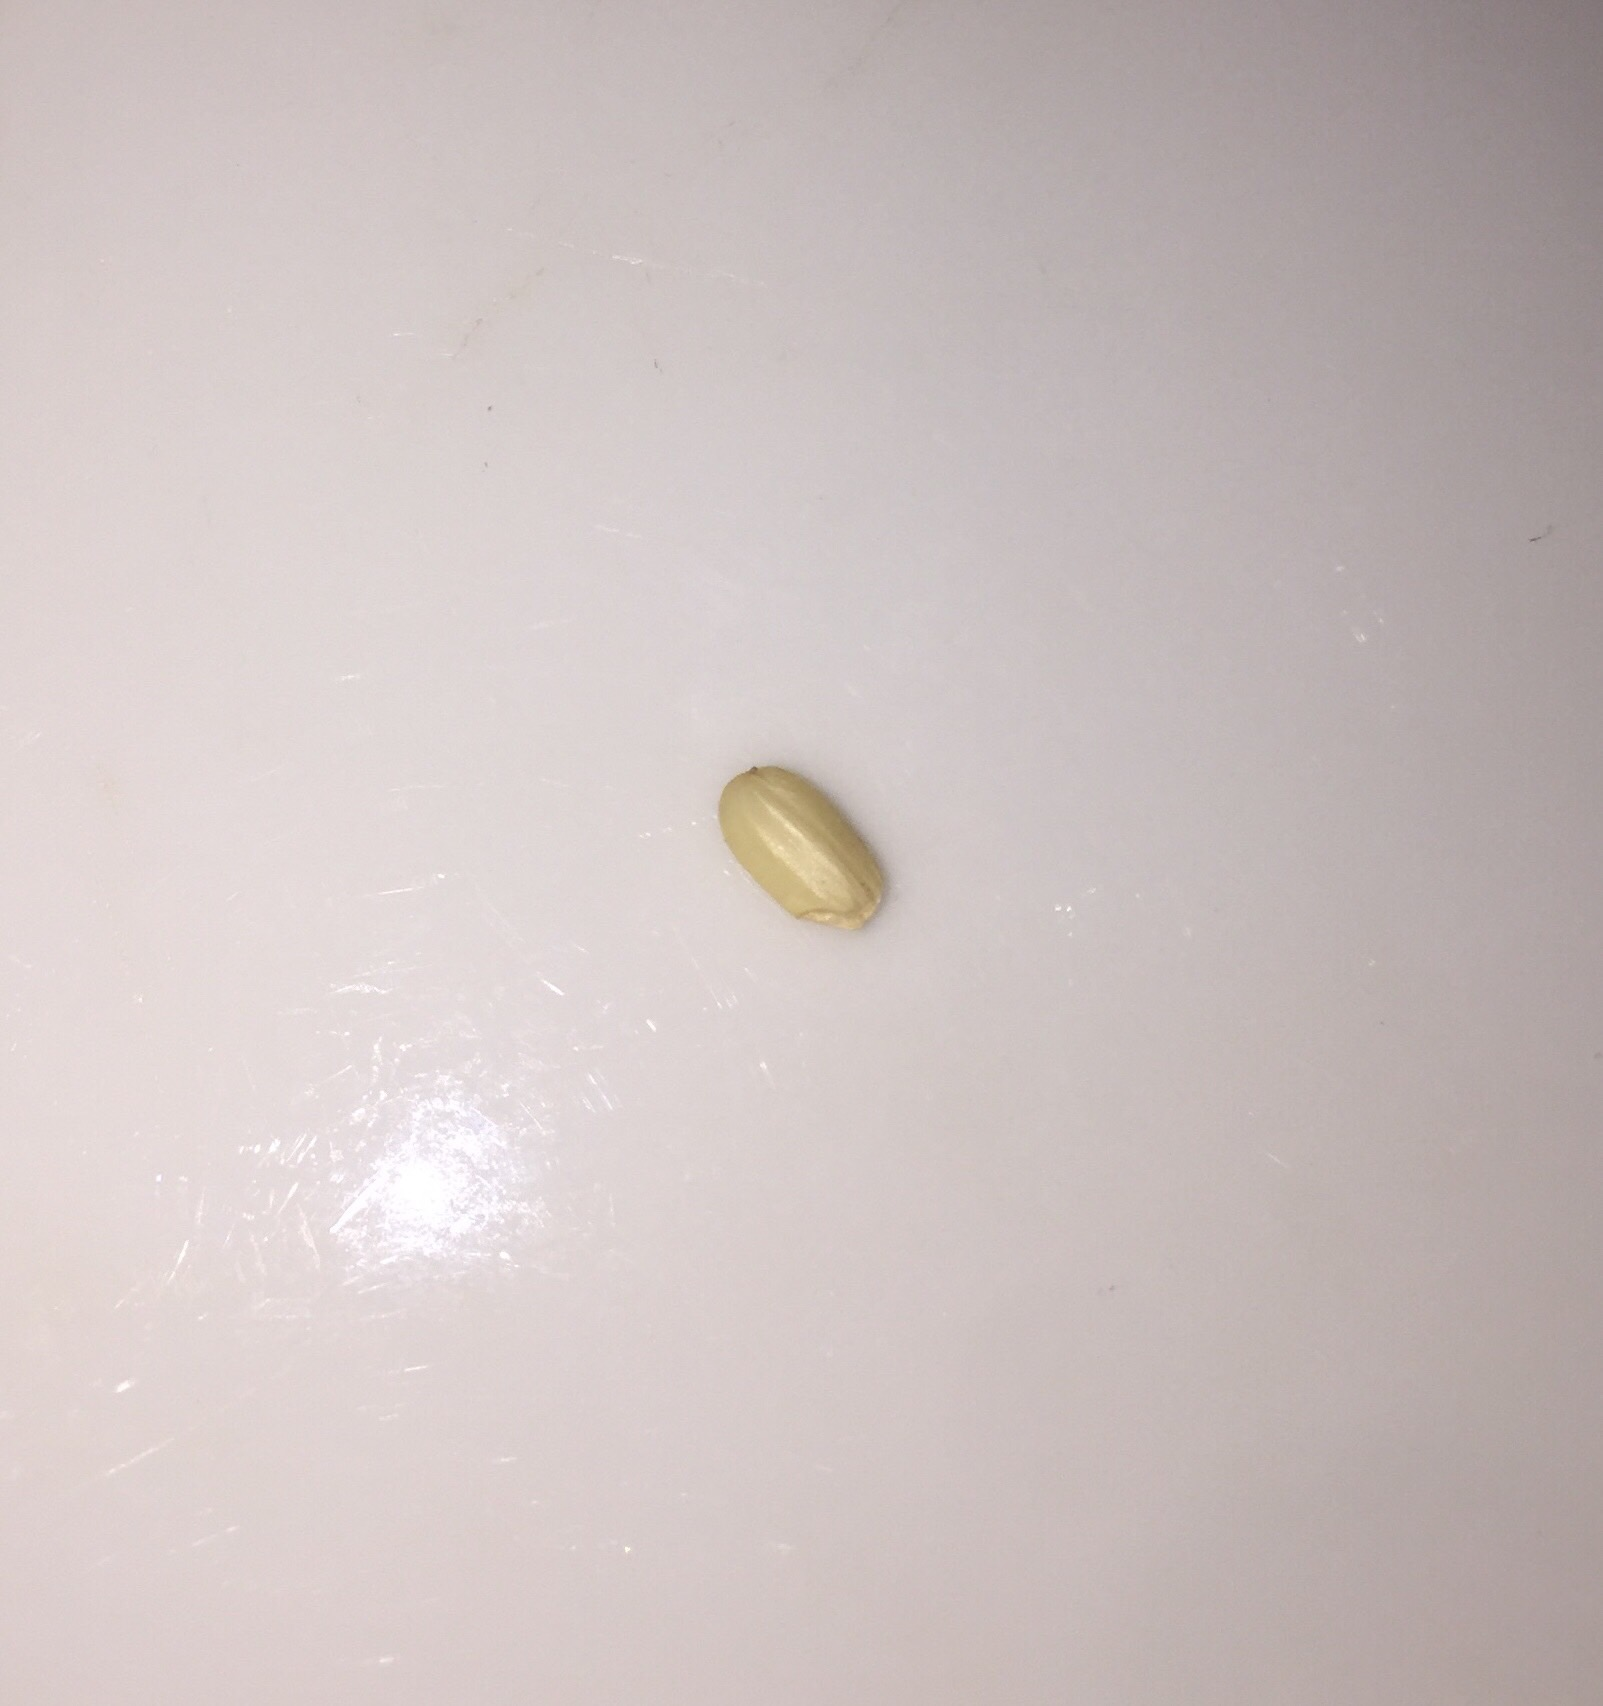Gao Lut Bac: (689, 729, 898, 952)
